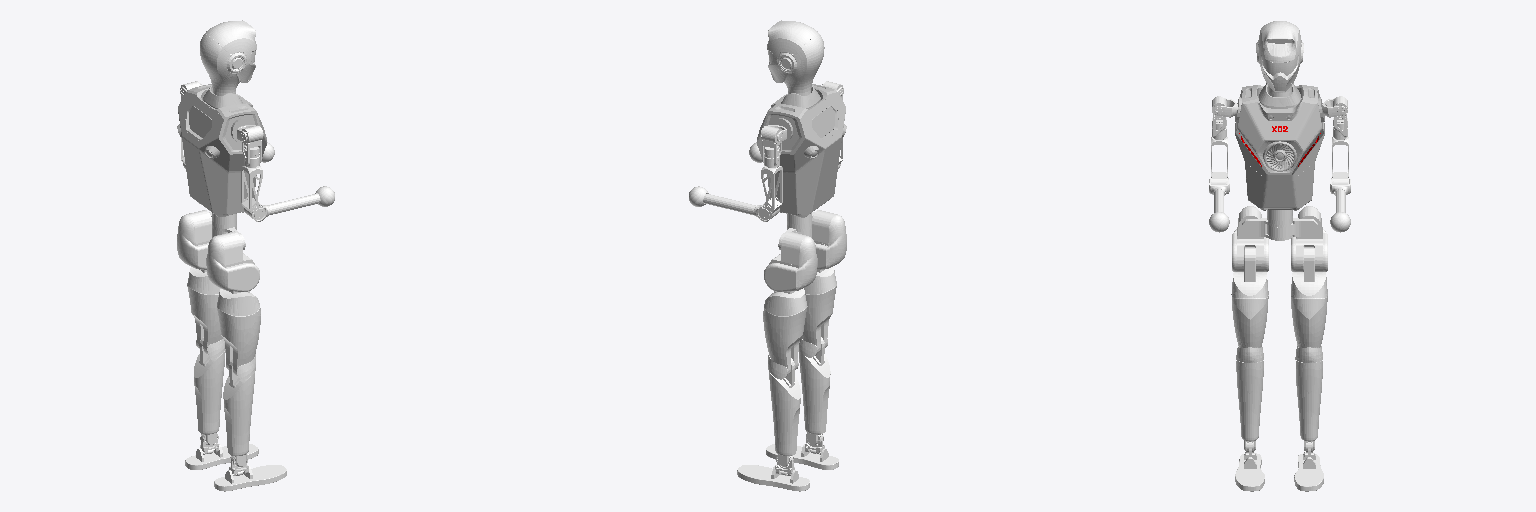
--- Render facts (derived) ---
The picture shows the robot from 3 angles, left to right: view 1: azimuth 30°, elevation 25°; view 2: azimuth 150°, elevation 25°; view 3: azimuth 270°, elevation 25°; orthographic projection.
Model x2 with 27 links and 26 joints (20 revolute, 6 fixed), rooted at world, posed every joint at zero.
Visible links, largest first — view 1: base_link, head_link, R_hip_pitch_link, R_hip_roll_link, R_knee_pitch_link, L_knee_pitch_link, L_hip_pitch_link, L_hip_roll_link, R_ankle_pitch_link, L_ankle_pitch_link, R_elbow_pitch_link, R_shoulder_yaw_link (+1 smaller); view 2: base_link, head_link, L_hip_pitch_link, L_hip_roll_link, L_knee_pitch_link, R_knee_pitch_link, R_hip_pitch_link, R_hip_roll_link, L_ankle_pitch_link, R_ankle_pitch_link, L_elbow_pitch_link, L_shoulder_yaw_link (+1 smaller); view 3: base_link, R_hip_pitch_link, L_hip_pitch_link, head_link, R_knee_pitch_link, L_knee_pitch_link, L_hip_roll_link, R_hip_roll_link, R_ankle_pitch_link, L_ankle_pitch_link, L_hip_yaw_link, L_elbow_pitch_link (+2 smaller).
Boxes of the visible links, x1,y1,x2,y2 form: base_link: [177, 84, 266, 216]; head_link: [200, 20, 256, 95]; R_hip_pitch_link: [217, 289, 260, 379]; R_hip_roll_link: [206, 231, 259, 291]; R_knee_pitch_link: [223, 359, 254, 466]; L_knee_pitch_link: [194, 337, 225, 444]; L_hip_pitch_link: [187, 267, 225, 357]; L_hip_roll_link: [177, 210, 211, 269]; R_ankle_pitch_link: [214, 456, 286, 491]; L_ankle_pitch_link: [185, 434, 258, 469]; R_elbow_pitch_link: [252, 186, 334, 221]; R_shoulder_yaw_link: [241, 166, 263, 220]; base_link: [757, 84, 846, 217]; head_link: [767, 20, 824, 95]; L_hip_pitch_link: [763, 288, 807, 379]; L_hip_roll_link: [764, 232, 817, 291]; L_knee_pitch_link: [769, 358, 800, 466]; R_knee_pitch_link: [799, 337, 830, 444]; R_hip_pitch_link: [799, 267, 836, 357]; R_hip_roll_link: [812, 210, 846, 269]; L_ankle_pitch_link: [737, 455, 809, 491]; R_ankle_pitch_link: [766, 434, 838, 469]; L_elbow_pitch_link: [689, 186, 769, 221]; L_shoulder_yaw_link: [760, 166, 782, 220]; base_link: [1235, 83, 1324, 210]; R_hip_pitch_link: [1231, 247, 1268, 362]; L_hip_pitch_link: [1291, 247, 1327, 362]; head_link: [1256, 21, 1303, 96]; R_knee_pitch_link: [1236, 361, 1263, 450]; L_knee_pitch_link: [1296, 361, 1322, 450]; L_hip_roll_link: [1291, 206, 1327, 271]; R_hip_roll_link: [1232, 206, 1268, 271]; R_ankle_pitch_link: [1235, 442, 1264, 491]; L_ankle_pitch_link: [1294, 442, 1323, 491]; L_hip_yaw_link: [1267, 216, 1317, 237]; L_elbow_pitch_link: [1330, 178, 1350, 232].
Size in the robot's own frame: 0.4432 by 0.4797 by 1.67 metres.
Meshes: 23 distinct files referenced, 23 mesh visuals loaded (23 binary STL).

robot.urdf — x2:
<?xml version="1.0" encoding="utf-8"?>
<!-- This URDF was automatically created by SolidWorks to URDF Exporter! Originally created by Stephen Brawner ([email redacted]) 
     Commit Version: 1.6.0-4-g7f85cfe  Build Version: 1.6.7995.38578
     For more information, please see http://wiki.ros.org/sw_urdf_exporter -->
<robot name="x2">
  <mujoco>
    <compiler meshdir="./meshes" discardvisual="false" />
  </mujoco>

  <link name="world"></link>
  <joint name="pelvis_link" type="fixed">
    <parent link="world" />
    <child link="pelvis_link" />
  </joint>

  <link name="pelvis_link">
    <inertial>
      <origin xyz="0 0 0.001" rpy="0 0 0" />
      <mass value="0.1" />
      <inertia ixx="0.00003053" ixy="0.0000000" ixz="0.00000000" iyy="0.00003053" iyz="0.00000000" izz="0.00000500" />
    </inertial>
    <visual>
      <origin xyz="0 0 0" rpy="0 0 0" />
      <geometry>
        <mesh filename="package://x02_description/urdf/meshes/pelvis_link.STL" />
      </geometry>
      <material name="">
        <color rgba="1 1 1 1" />
      </material>
    </visual>
    <collision>
      <origin xyz="0 0 0" rpy="0 0 0" />
      <geometry>
        <mesh filename="package://x02_description/urdf/meshes/pelvis_link.STL" />
      </geometry>
    </collision>
  </link>
  <link name="L_hip_yaw_link">
    <inertial>
      <origin xyz="-0.0005618 0.01983101 0.00885104" rpy="0 0 0" />
      <mass value="0.841" />
      <inertia ixx="0.00175231" ixy="0.00003788" ixz="0.00000418" iyy="0.00059335" iyz="-0.00014762" izz="0.00173830" />
    </inertial>
    <visual>
      <origin xyz="0 0 0" rpy="0 0 0" />
      <geometry>
        <mesh filename="package://x02_description/urdf/meshes/L_hip_yaw_link.STL" />
      </geometry>
      <material name="">
        <color rgba="1 1 1 1" />
      </material>
    </visual>
    <!-- <collision>
      <origin xyz="0 0 0" rpy="0 0 0" />
      <geometry>
        <mesh filename="package://x02_description/urdf/meshes/L_hip_yaw_link.STL" />
      </geometry>
    </collision> -->
  </link>
  <joint name="LHipYaw" type="revolute">
    <origin xyz="0 0 0" rpy="0 0 0" />
    <parent link="pelvis_link" />
    <child link="L_hip_yaw_link" />
    <axis xyz="0 0 1" />
    <limit lower="-0.7854" upper="0.7854" effort="30" velocity="10" />
  </joint>
  <link name="L_hip_roll_link">
    <inertial>
      <origin xyz="-0.03247252 0.00017925 -0.07264839" rpy="0 0 0" />
      <mass value="2.667" />
      <inertia ixx="0.007970422" ixy="-0.00001767" ixz="0.00171027" iyy="0.01086223" iyz="-0.00001804" izz="0.00754180" />
    </inertial>
    <visual>
      <origin xyz="0 0 0" rpy="0 0 0" />
      <geometry>
        <mesh filename="package://x02_description/urdf/meshes/L_hip_roll_link.STL" />
      </geometry>
      <material name="">
        <color rgba="1 1 1 1" />
      </material>
    </visual>
    <!-- <collision>
      <origin xyz="0 0 0" rpy="0 0 0" />
      <geometry>
        <mesh filename="package://x02_description/urdf/meshes/L_hip_roll_link.STL" />
      </geometry>
    </collision> -->
  </link>
  <joint name="LHipRoll" type="revolute">
    <origin xyz="-0.0095 0.1 0" rpy="0 0 0" />
    <parent link="L_hip_yaw_link" />
    <child link="L_hip_roll_link" />
    <axis xyz="1 0 0" />
    <limit lower="-0.349" upper="0.524" effort="45" velocity="15" />
  </joint>
  <link name="L_hip_pitch_link">
    <inertial>
      <origin xyz="0.00382921 0 -0.18548450" rpy="0 0 0" />
      <mass value="1.664" />
      <inertia ixx="0.01443710" ixy="0.00000000" ixz="-0.00089513" iyy="0.01484426" iyz="-0.00000003" izz="0.00315739" />
    </inertial>
    <visual>
      <origin xyz="0 0 0" rpy="0 0 0" />
      <geometry>
        <mesh filename="package://x02_description/urdf/meshes/L_hip_pitch_link.STL" />
      </geometry>
      <material name="">
        <color rgba="1 1 1 1" />
      </material>
    </visual>
    <collision>
      <origin xyz="0 0 0" rpy="0 0 0" />
      <geometry>
        <mesh filename="package://x02_description/urdf/meshes/L_hip_pitch_link.STL" />
      </geometry>
    </collision>
  </link>
  <joint name="LHipPitch" type="revolute">
    <origin xyz="0.0085 -0.00100000000000001 -0.11" rpy="0 0 0" />
    <parent link="L_hip_roll_link" />
    <child link="L_hip_pitch_link" />
    <axis xyz="0 -1 0" />
    <limit lower="-0.526" upper="2.4434" effort="45" velocity="15" />
  </joint>
  <link name="L_knee_pitch_link">
    <inertial>
      <origin xyz="0.00140265 0 -0.15875986" rpy="0 0 0" />
      <mass value="1.125" />
      <inertia ixx="0.00985892" ixy="0.00000000" ixz="0.00035856" iyy="0.00999859" iyz="-0.00000003" izz="0.00102379" />
    </inertial>
    <visual>
      <origin xyz="0 0 0" rpy="0 0 0" />
      <geometry>
        <mesh filename="package://x02_description/urdf/meshes/L_knee_pitch_link.STL" />
      </geometry>
      <material name="">
        <color rgba="1 1 1 1" />
      </material>
    </visual>
    <collision>
      <origin xyz="0 0 0" rpy="0 0 0" />
      <geometry>
        <mesh filename="package://x02_description/urdf/meshes/L_knee_pitch_link.STL" />
      </geometry>
    </collision>
  </link>
  <joint name="LKnee" type="revolute">
    <origin xyz="0 0 -0.35" rpy="0 0 0" />
    <parent link="L_hip_pitch_link" />
    <child link="L_knee_pitch_link" />
    <axis xyz="0 -1 0" />
    <limit lower="-2.3561" upper="0" effort="60" velocity="20" />
  </joint>
  <link name="L_ankle_pitch_link">
    <inertial>
      <origin xyz="0.0393987623680991 -0.000237277713772188 -0.0784143417886232" rpy="0 0 0" />
      <mass value="0.556154115746433" />
       <inertia ixx="0.00032584056406277" ixy="-3.52704729229917E-06" ixz="-3.15470198590693E-05" iyy="0.00243296196329658" iyz="3.92516794179968E-07" izz="0.00260484732439791" />
<!--      <inertia ixx="0.01" ixy="0" ixz="-2.9E-06" iyy="0.01" iyz="0" izz="0.01"/>-->
    </inertial>
    <visual>
      <origin xyz="0 0 0" rpy="0 0 0" />
      <geometry>
        <mesh filename="package://x02_description/urdf/meshes/L_ankle_pitch_link.STL" />
      </geometry>
      <material name="">
        <color rgba="1 1 1 1" />
      </material>
    </visual>
        <collision>
      <origin xyz="-0.095 0.0 -0.087" rpy="0 0 0"/>
      <geometry>
        <sphere radius="0.005"/>
      </geometry>
    </collision>
    <collision>
      <origin xyz="-0.052 0.026 -0.087" rpy="0 0 0"/>
      <geometry>
        <sphere radius="0.005"/>
      </geometry>
    </collision>
    <collision>
      <origin xyz="-0.052 -0.028 -0.087" rpy="0 0 0"/>
      <geometry>
        <sphere radius="0.005"/>
      </geometry>
    </collision>
    <collision>
      <origin xyz="0.075 0.038 -0.087" rpy="0 0 0"/>
      <geometry>
        <sphere radius="0.005"/>
      </geometry>
    </collision>
    <collision>
      <origin xyz="0.075 -0.038 -0.087" rpy="0 0 0"/>
      <geometry>
        <sphere radius="0.005"/>
      </geometry>
    </collision>
    <collision>
      <origin xyz="0.136 -0.00 -0.087" rpy="0 0 0"/>
      <geometry>
        <sphere radius="0.005"/>
      </geometry>
    </collision>
  </link>
  <joint name="LAnkleRoll" type="revolute">
    <origin xyz="0 0 -0.087" rpy="0 0 0" />
    <parent link="L_ankle_pitch_link" />
    <child link="l_sole" />
    <axis xyz="1 0 0" />
    <limit lower="-1.0472" upper="1.0472" effort="50" velocity="5" />
  </joint>
  <link name="l_sole">
    <inertial>
      <origin xyz="0 0 0" rpy="0 0 0" />
      <mass value="0.0" />
      <inertia ixx="0.0" ixy="0.0" ixz="0.0" iyy="0.0" iyz="0.0" izz="0.0" />
    </inertial>
  </link>
  <joint name="LAnklePitch" type="revolute">
    <origin xyz="0 0 -0.35" rpy="0 0 0" />
    <parent link="L_knee_pitch_link" />
    <child link="L_ankle_pitch_link" />
    <axis xyz="0 -1 0" />
    <limit lower="-1.2217" upper="1.2217" effort="30" velocity="10" />
  </joint>
  <link name="R_hip_yaw_link">
    <inertial>
      <origin xyz="-0.00116447172536395 -0.0404494528952502 1.93208404151757E-18" rpy="0 0 0" />
      <mass value="0.21920189004537" />
      <inertia ixx="0.00059823911672333" ixy="-1.52005393557497E-05" ixz="-6.79522760641359E-21" iyy="0.000157505412929931" iyz="2.64697796016969E-20" izz="0.000555362014045214" />
    </inertial>
    <visual>
      <origin xyz="0 0 0" rpy="0 0 0" />
      <geometry>
        <mesh filename="package://x02_description/urdf/meshes/R_hip_yaw_link.STL" />
      </geometry>
      <material name="">
        <color rgba="1 1 1 1" />
      </material>
    </visual>
    <!-- <collision>
      <origin xyz="0 0 0" rpy="0 0 0" />
      <geometry>
        <mesh filename="package://x02_description/urdf/meshes/R_hip_yaw_link.STL" />
      </geometry>
    </collision> -->
  </link>
  <joint name="RHipYaw" type="revolute">
    <origin xyz="0 0 0" rpy="0 0 0" />
    <parent link="pelvis_link" />
    <child link="R_hip_yaw_link" />
    <axis xyz="0 0 -1" />
    <limit lower="-0.7854" upper="0.7854" effort="30" velocity="10" />
  </joint>
  <link name="R_hip_roll_link">
    <inertial>
      <origin xyz="-0.03247252 0.00017925 -0.07264839" rpy="0 0 0" />
      <mass value="2.667" />
      <inertia ixx="0.007970422" ixy="-0.00001767" ixz="0.00171027" iyy="0.01086223" iyz="-0.00001804" izz="0.00754180" />
    </inertial>
    <visual>
      <origin xyz="0 0 0" rpy="0 0 0" />
      <geometry>
        <mesh filename="package://x02_description/urdf/meshes/R_hip_roll_link.STL" />
      </geometry>
      <material name="">
        <color rgba="1 1 1 1" />
      </material>
    </visual>
    <!-- <collision>
      <origin xyz="0 0 0" rpy="0 0 0" />
      <geometry>
        <mesh filename="package://x02_description/urdf/meshes/R_hip_roll_link.STL" />
      </geometry>
    </collision> -->
  </link>
  <joint name="RHipRoll" type="revolute">
    <origin xyz="-0.0095 -0.1 0" rpy="0 0 0" />
    <parent link="R_hip_yaw_link" />
    <child link="R_hip_roll_link" />
    <axis xyz="-1 0 0" />
    <limit lower="-0.349" upper="0.524" effort="45" velocity="15" />
  </joint>
  <link name="R_hip_pitch_link">
    <inertial>
      <origin xyz="0.00382921 0 -0.1854850" rpy="0 0 0" />
      <mass value="1.664" />
      <inertia ixx="0.01443710" ixy="-0.00000000" ixz="-0.00089513" iyy="0.01484426" iyz="0.00000003" izz="0.00315739" />
    </inertial>
    <visual>
      <origin xyz="0 0 0" rpy="0 0 0" />
      <geometry>
        <mesh filename="package://x02_description/urdf/meshes/R_hip_pitch_link.STL" />
      </geometry>
      <material name="">
        <color rgba="1 1 1 1" />
      </material>
    </visual>
    <collision>
      <origin xyz="0 0 0" rpy="0 0 0" />
      <geometry>
        <mesh filename="package://x02_description/urdf/meshes/R_hip_pitch_link.STL" />
      </geometry>
    </collision>
  </link>
  <joint name="RHipPitch" type="revolute">
    <origin xyz="0.0085 -0.001 -0.11" rpy="0 0 0" />
    <parent link="R_hip_roll_link" />
    <child link="R_hip_pitch_link" />
    <axis xyz="0 -1 0" />
    <limit lower="-0.526" upper="2.4434" effort="45" velocity="15" />
  </joint>
  <link name="R_knee_pitch_link">
    <inertial>
      <origin xyz="0.00140265 0 -0.15875986" rpy="0 0 0" />
      <mass value="1.125" />
      <inertia ixx="0.00985892" ixy="-0.00000000" ixz="0.00035856" iyy="0.00999859" iyz="0.00000003" izz="0.00102379" />
    </inertial>
    <visual>
      <origin xyz="0 0 0" rpy="0 0 0" />
      <geometry>
        <mesh filename="package://x02_description/urdf/meshes/R_knee_pitch_link.STL" />
      </geometry>
      <material name="">
        <color rgba="1 1 1 1" />
      </material>
    </visual>
    <collision>
      <origin xyz="0 0 0" rpy="0 0 0" />
      <geometry>
        <mesh filename="package://x02_description/urdf/meshes/R_knee_pitch_link.STL" />
      </geometry>
    </collision>
  </link>
  <joint name="RKnee" type="revolute">
    <origin xyz="0 0 -0.35" rpy="0 0 0" />
    <parent link="R_hip_pitch_link" />
    <child link="R_knee_pitch_link" />
    <axis xyz="0 -1 0" />
    <limit lower="-2.3561" upper="0" effort="60" velocity="20" />
  </joint>
  <link name="R_ankle_pitch_link">
    <inertial>
      <origin xyz="0.0393998134614837 0.000237080400869755 -0.078414481781949" rpy="0 0 0" />
      <mass value="0.556160945494453" />
       <inertia ixx="0.00032584056406277" ixy="3.52704729229917E-06" ixz="-3.15470198590693E-05" iyy="0.00243296196329658" iyz="-3.92516794179968E-07" izz="0.00260484732439791" />
<!--      <inertia ixx="0.01" ixy="0" ixz="-2.9E-06" iyy="0.01" iyz="0" izz="0.01"/>-->
    </inertial>
    <visual>
      <origin xyz="0 0 0" rpy="0 0 0" />
      <geometry>
        <mesh filename="package://x02_description/urdf/meshes/R_ankle_pitch_link.STL" />
      </geometry>
      <material name="">
        <color rgba="1 1 1 1" />
      </material>
    </visual>
    <collision>
      <origin xyz="-0.095 0.0 -0.087" rpy="0 0 0"/>
      <geometry>
        <sphere radius="0.005"/>
      </geometry>
    </collision>
    <collision>
      <origin xyz="-0.052 0.028 -0.087" rpy="0 0 0"/>
      <geometry>
        <sphere radius="0.005"/>
      </geometry>
    </collision>
    <collision>
      <origin xyz="-0.052 -0.026 -0.087" rpy="0 0 0"/>
      <geometry>
        <sphere radius="0.005"/>
      </geometry>
    </collision>
    <collision>
      <origin xyz="0.075 0.038 -0.087" rpy="0 0 0"/>
      <geometry>
        <sphere radius="0.005"/>
      </geometry>
    </collision>
    <collision>
      <origin xyz="0.075 -0.038 -0.087" rpy="0 0 0"/>
      <geometry>
        <sphere radius="0.005"/>
      </geometry>
    </collision>
    <collision>
      <origin xyz="0.136 -0.00 -0.087" rpy="0 0 0"/>
      <geometry>
        <sphere radius="0.005"/>
      </geometry>
    </collision>
  </link>
  <joint name="RAnkleRoll" type="revolute">
    <origin xyz="0 0 -0.087" rpy="0 0 0" />
    <parent link="R_ankle_pitch_link" />
    <child link="r_sole" />
    <axis xyz="1 0 0" />
    <limit lower="-1.0472" upper="1.0472" effort="50" velocity="5" />
  </joint>
  <link name="r_sole">
    <inertial>
      <origin xyz="0 0 0" rpy="0 0 0" />
      <mass value="0.0" />
      <inertia ixx="0.0" ixy="0.0" ixz="0.0" iyy="0.0" iyz="0.0" izz="0.0" />
    </inertial>
  </link>
  <joint name="RAnklePitch" type="revolute">
    <origin xyz="0 0 -0.35" rpy="0 0 0" />
    <parent link="R_knee_pitch_link" />
    <child link="R_ankle_pitch_link" />
    <axis xyz="0 -1 0" />
    <limit lower="-1.2217" upper="1.2217" effort="30" velocity="10" />
  </joint>
  <link name="waist_yaw_link">
    <inertial>
      <origin xyz="-0.00574 0 0.18601" rpy="0 0 0" />
      <mass value="10.129" />
      <inertia ixx="0.16142168" ixy="-0.00000008" ixz="-0.00055992" iyy="0.14544225" iyz="-0.00000008" izz="0.08278995" />
    </inertial>
    <visual>
      <origin xyz="0 0 0" rpy="0 0 0" />
      <geometry>
        <mesh filename="package://x02_description/urdf/meshes/waist_yaw_link.STL" />
      </geometry>
      <material name="">
        <color rgba="1 1 1 1" />
      </material>
    </visual>
    <collision>
      <origin xyz="0 0 0" rpy="0 0 0" />
      <geometry>
        <mesh filename="package://x02_description/urdf/meshes/waist_yaw_link.STL" />
      </geometry>
    </collision>
  </link>
  <joint name="waist_yaw" type="fixed">
    <origin xyz="0 0 0.08375" rpy="0 0 0" />
    <parent link="pelvis_link" />
    <child link="waist_yaw_link" />
    <axis xyz="0 0 1" />
    <limit lower="-1.047" upper="1.047" effort="83.5" velocity="43" />
  </joint>
  <link name="base_link">
    <inertial>
      <origin xyz="0.07801 0.00014123 0.21228" rpy="0 0 0" />
      <mass value="0.0051207" />
      <inertia ixx="1.2629E-06" ixy="-5.8501E-11" ixz="4.3873E-07" iyy="1.0993E-06" iyz="5.4154E-10" izz="9.4943E-07" />
    </inertial>
    <visual>
      <origin xyz="0 0 0" rpy="0 0 0" />
      <geometry>
        <mesh filename="package://x02_description/urdf/meshes/torso_link.STL" />
      </geometry>
      <material name="">
        <color rgba="0.823529411764706 0.823529411764706 0.823529411764706 1" />
      </material>
    </visual>
    <collision>
      <origin xyz="0 0 0" rpy="0 0 0" />
      <geometry>
        <mesh filename="package://x02_description/urdf/meshes/torso_link.STL" />
      </geometry>
    </collision>
  </link>
  <joint name="torso" type="fixed">
    <origin xyz="0 0 0.03675" rpy="0 0 0" />
    <parent link="waist_yaw_link" />
    <child link="base_link" />
    <axis xyz="0 0 0" />
  </joint>
  <link name="logo_link">
    <inertial>
      <origin xyz="0.0780100780349841 0.000141230703059829 0.212276372633898" rpy="0 0 0" />
      <mass value="0.00512067007990884" />
      <inertia ixx="1.26286978002528E-06" ixy="-5.85012656774689E-11" ixz="4.38730918441945E-07" iyy="1.09931895773858E-06" iyz="5.41542411728218E-10" izz="9.49430143120174E-07" />
    </inertial>
    <visual>
      <origin xyz="0 0 0" rpy="0 0 0" />
      <geometry>
        <mesh filename="package://x02_description/urdf/meshes/logo_link.STL" />
      </geometry>
      <material name="">
        <color rgba="1 0 0 1" />
      </material>
    </visual>
    <collision>
      <origin xyz="0 0 0" rpy="0 0 0" />
      <geometry>
        <mesh filename="package://x02_description/urdf/meshes/logo_link.STL" />
      </geometry>
    </collision>
  </link>
  <joint name="logo" type="fixed">
    <origin xyz="0 0 0" rpy="0 0 0" />
    <parent link="base_link" />
    <child link="logo_link" />
    <axis xyz="0 0 0" />
  </joint>
  <link name="head_link">
    <inertial>
      <origin xyz="0.01547561 0 0.16472894" rpy="0 0 0" />
      <mass value="1.67" />
      <inertia ixx="0.00882503" ixy="0.00000000" ixz="0.00010108" iyy="0.01008134" iyz="0.00000000" izz="0.00524807" />
    </inertial>
    <visual>
      <origin xyz="0 0 0" rpy="0 0 0" />
      <geometry>
        <mesh filename="package://x02_description/urdf/meshes/head_link.STL" />
      </geometry>
      <material name="">
        <color rgba="1 1 1 1" />
      </material>
    </visual>
    <collision>
      <origin xyz="0 0 0" rpy="0 0 0" />
      <geometry>
        <mesh filename="package://x02_description/urdf/meshes/head_link.STL" />
      </geometry>
    </collision>
  </link>
  <joint name="HeadTilt" type="revolute">
    <origin xyz="0 0 0" rpy="0 0 0" />
    <parent link="neck_link" />
    <child link="head_link" />
    <axis xyz="0 1 0" />
    <limit lower="-1.0472" upper="1.0472" effort="50" velocity="5" />
  </joint>
  <link name="neck_link">
    <inertial>
      <origin xyz="0 0 0" rpy="0 0 0" />
      <mass value="0.0" />
      <inertia ixx="0.0" ixy="0.0" ixz="0.0" iyy="0.0" iyz="0.0" izz="0.0" />
    </inertial>
  </link>
  <joint name="HeadPan" type="revolute">
    <origin xyz="0 0 0.3645" rpy="0 0 0" />
    <parent link="base_link" />
    <child link="neck_link" />
    <axis xyz="0 0 1" />
    <limit lower="-1.571" upper="1.571" effort="50" velocity="5" />
  </joint>
  <link name="L_shoulder_pitch_link">
    <inertial>
      <origin xyz="0 0.02870482 0.00006450" rpy="0 0 0" />
      <mass value="0.08" />
      <inertia ixx="0.00004183" ixy="0.00000000" ixz="0.00000000" iyy="0.00006966" iyz="0.00000004" izz="0.00009307" />
    </inertial>
    <visual>
      <origin xyz="0 0 0" rpy="0 0 0" />
      <geometry>
        <mesh filename="package://x02_description/urdf/meshes/L_shoulder_pitch_link.STL" />
      </geometry>
      <material name="">
        <color rgba="1 1 1 1" />
      </material>
    </visual>
    <collision>
      <origin xyz="0 0 0" rpy="0 0 0" />
      <geometry>
        <mesh filename="package://x02_description/urdf/meshes/L_shoulder_pitch_link.STL" />
      </geometry>
    </collision>
  </link>
  <joint name="LShoulderPitch" type="revolute">
    <origin xyz="-0.01 0.14477 0.31534" rpy="0.17453 0 0" />
    <parent link="base_link" />
    <child link="L_shoulder_pitch_link" />
    <axis xyz="0 -1 0" />
    <limit lower="-1.57" upper="3.14" effort="66" velocity="30" />
  </joint>
  <link name="L_shoulder_roll_link">
    <inertial>
      <origin xyz="-0.00014962 0.00021332 -0.04253615" rpy="0 0 0" />
      <mass value="0.8" />
      <inertia ixx="0.00053581" ixy="0.00000000" ixz="-0.00000191" iyy="0.00055551" iyz="-0.00000262" izz="0.00012232" />
    </inertial>
    <visual>
      <origin xyz="0 0 0" rpy="0 0 0" />
      <geometry>
        <mesh filename="package://x02_description/urdf/meshes/L_shoulder_roll_link.STL" />
      </geometry>
      <material name="">
        <color rgba="1 1 1 1" />
      </material>
    </visual>
    <collision>
      <origin xyz="0 0 0" rpy="0 0 0" />
      <geometry>
        <mesh filename="package://x02_description/urdf/meshes/L_shoulder_roll_link.STL" />
      </geometry>
    </collision>
  </link>
  <joint name="LShoulderRoll" type="revolute">
    <origin xyz="0 0.061 0" rpy="-0.17453 0 0" />
    <parent link="L_shoulder_pitch_link" />
    <child link="L_shoulder_roll_link" />
    <axis xyz="1 0 0" />
    <limit lower="-0.35" upper="1.57" effort="66" velocity="30" />
  </joint>
  <link name="L_shoulder_yaw_link">
    <inertial>
      <origin xyz="0.0049554 -0.00024132 -0.14234" rpy="0 0 0" />
      <mass value="0.5" />
      <inertia ixx="0.00062700" ixy="-0.00000023" ixz="-0.00003710" iyy="0.00060922" iyz="0.00000138" izz="0.00009956" />
    </inertial>
    <visual>
      <origin xyz="0 0 0" rpy="0 0 0" />
      <geometry>
        <mesh filename="package://x02_description/urdf/meshes/L_shoulder_yaw_link.STL" />
      </geometry>
      <material name="">
        <color rgba="1 1 1 1" />
      </material>
    </visual>
    <collision>
      <origin xyz="0 0 0" rpy="0 0 0" />
      <geometry>
        <mesh filename="package://x02_description/urdf/meshes/L_shoulder_yaw_link.STL" />
      </geometry>
    </collision>
  </link>
  <joint name="L_shoulder_yaw" type="fixed">
    <origin xyz="0 0 -0.112" rpy="0 0 0" />
    <parent link="L_shoulder_roll_link" />
    <child link="L_shoulder_yaw_link" />
    <axis xyz="0 0 1" />
    <limit lower="-2.618" upper="2.618" effort="45" velocity="30" />
  </joint>
  <link name="L_elbow_pitch_link">
    <inertial>
      <origin xyz="-0.0123066 0 -0.21266023" rpy="0 0 0" />
      <mass value="0.1" />
      <inertia ixx="0.00247994" ixy="0.00000000" ixz="0.00000793" iyy="0.00246631" iyz="0.00000001" izz="0.00012575" />
    </inertial>
    <visual>
      <origin xyz="0 0 0" rpy="0 0 0" />
      <geometry>
        <mesh filename="package://x02_description/urdf/meshes/L_elbow_pitch_link.STL" />
      </geometry>
      <material name="">
        <color rgba="1 1 1 1" />
      </material>
    </visual>
    <collision>
      <origin xyz="0 0 0" rpy="0 0 0" />
      <geometry>
        <mesh filename="package://x02_description/urdf/meshes/L_elbow_pitch_link.STL" />
      </geometry>
    </collision>
  </link>
  <joint name="LElbow" type="revolute">
    <origin xyz="0.01 0 -0.173" rpy="0 -1.57 0" />
    <parent link="L_shoulder_yaw_link" />
    <child link="L_elbow_pitch_link" />
    <axis xyz="0 -1 0" />
    <limit lower="0" upper="2.443" effort="83.5" velocity="43" />
  </joint>
  <link name="R_shoulder_pitch_link">
    <inertial>
      <origin xyz="0 -0.02870482 0.00006450" rpy="0 0 0" />
      <mass value="0.08" />
      <inertia ixx="0.00004183" ixy="0.00000000" ixz="0.00000000" iyy="0.00006966" iyz="-0.00000004" izz="0.00009307" />
    </inertial>
    <visual>
      <origin xyz="0 0 0" rpy="0 0 0" />
      <geometry>
        <mesh filename="package://x02_description/urdf/meshes/R_shoulder_pitch_link.STL" />
      </geometry>
      <material name="">
        <color rgba="1 1 1 1" />
      </material>
    </visual>
    <collision>
      <origin xyz="0 0 0" rpy="0 0 0" />
      <geometry>
        <mesh filename="package://x02_description/urdf/meshes/R_shoulder_pitch_link.STL" />
      </geometry>
    </collision>
  </link>
  <joint name="RShoulderPitch" type="revolute">
    <origin xyz="-0.01 -0.14477 0.31534" rpy="-0.17453 0 0" />
    <parent link="base_link" />
    <child link="R_shoulder_pitch_link" />
    <axis xyz="0 -1 0" />
    <limit lower="-1.57" upper="3.14" effort="66" velocity="30" />
  </joint>
  <link name="R_shoulder_roll_link">
    <inertial>
      <origin xyz="0.00014963 -0.00021332 -0.04253615" rpy="0 0 0" />
      <mass value="0.8" />
      <inertia ixx="0.00053581" ixy="0.00000000" ixz="0.00000191" iyy="0.00055551" iyz="0.00000262" izz="0.00012232" />
    </inertial>
    <visual>
      <origin xyz="0 0 0" rpy="0 0 0" />
      <geometry>
        <mesh filename="package://x02_description/urdf/meshes/R_shoulder_roll_link.STL" />
      </geometry>
      <material name="">
        <color rgba="1 1 1 1" />
      </material>
    </visual>
    <collision>
      <origin xyz="0 0 0" rpy="0 0 0" />
      <geometry>
        <mesh filename="package://x02_description/urdf/meshes/R_shoulder_roll_link.STL" />
      </geometry>
    </collision>
  </link>
  <joint name="RShoulderRoll" type="revolute">
    <origin xyz="0 -0.061 0" rpy="0.17453 0 0" />
    <parent link="R_shoulder_pitch_link" />
    <child link="R_shoulder_roll_link" />
    <axis xyz="-1 0 0" />
    <limit lower="-0.35" upper="1.57" effort="66" velocity="30" />
  </joint>
  <link name="R_shoulder_yaw_link">
    <inertial>
      <origin xyz="0.00499440 -0.00024129 -0.14233699" rpy="0 0 0" />
      <mass value="0.5" />
      <inertia ixx="0.00062700" ixy="-0.00000023" ixz="-0.00003710" iyy="0.00060922" iyz="0.00000138" izz="0.00009956" />
    </inertial>
    <visual>
      <origin xyz="0 0 0" rpy="0 0 0" />
      <geometry>
        <mesh filename="package://x02_description/urdf/meshes/R_shoulder_yaw_link.STL" />
      </geometry>
      <material name="">
        <color rgba="1 1 1 1" />
      </material>
    </visual>
    <collision>
      <origin xyz="0 0 0" rpy="0 0 0" />
      <geometry>
        <mesh filename="package://x02_description/urdf/meshes/R_shoulder_yaw_link.STL" />
      </geometry>
    </collision>
  </link>
  <joint name="R_shoulder_yaw" type="fixed">
    <origin xyz="-3.8964E-05 0 -0.112" rpy="0 0 0" />
    <parent link="R_shoulder_roll_link" />
    <child link="R_shoulder_yaw_link" />
    <axis xyz="0 0 -1" />
    <limit lower="-2.618" upper="2.618" effort="45" velocity="30" />
  </joint>
  <link name="R_elbow_pitch_link">
    <inertial>
      <origin xyz="-0.0123066 0 -0.21266023" rpy="0 0 0" />
      <mass value="0.1" />
      <inertia ixx="0.00247994" ixy="0.00000000" ixz="0.00000793" iyy="0.00246631" iyz="0.00000001" izz="0.00012575" />
    </inertial>
    <visual>
      <origin xyz="0 0 0" rpy="0 0 0" />
      <geometry>
        <mesh filename="package://x02_description/urdf/meshes/R_elbow_pitch_link.STL" />
      </geometry>
      <material name="">
        <color rgba="1 1 1 1" />
      </material>
    </visual>
    <collision>
      <origin xyz="0 0 0" rpy="0 0 0" />
      <geometry>
        <mesh filename="package://x02_description/urdf/meshes/R_elbow_pitch_link.STL" />
      </geometry>
    </collision>
  </link>
  <joint name="RElbow" type="revolute">
    <origin xyz="0.010039 0 -0.173" rpy="0 -1.57 0" />
    <parent link="R_shoulder_yaw_link" />
    <child link="R_elbow_pitch_link" />
    <axis xyz="0 -1 0" />
    <limit lower="0" upper="2.443" effort="83.5" velocity="43" />
  </joint>
</robot>
